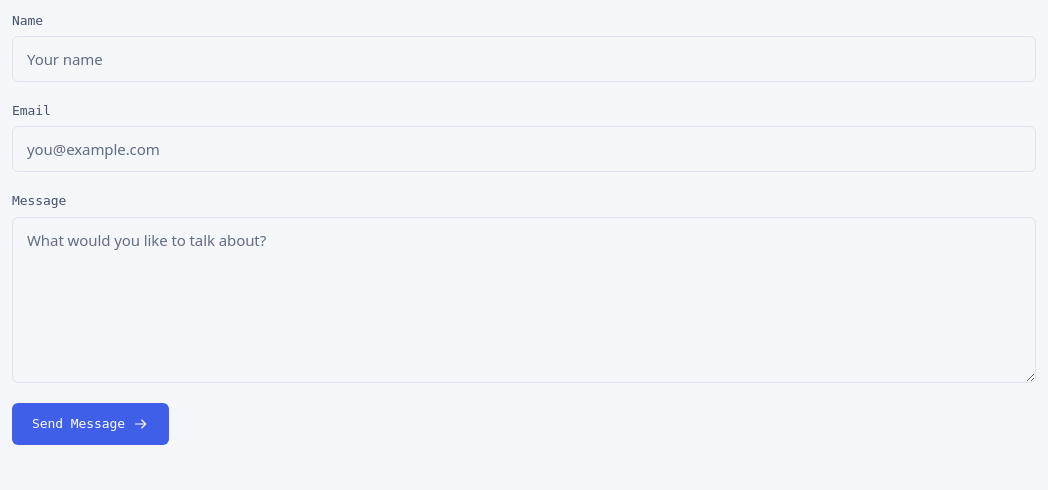
it: ContactForm › shows the real failure when the server answers with an error status
In the field labelled "Name": (524, 59) [12,36,1036,82], type "Ada Lovelace"
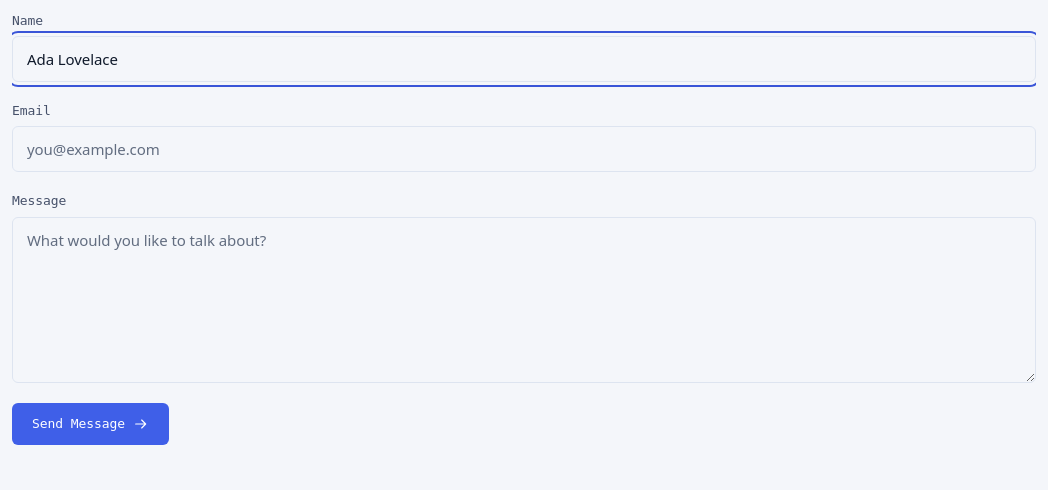
In the field labelled "Email": (524, 149) [12,126,1036,172], type "ada@example.com"
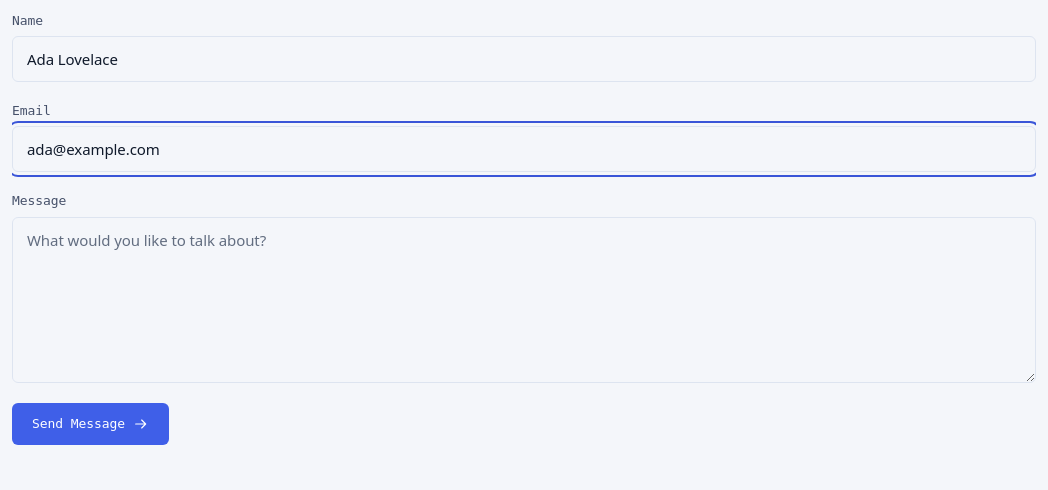
In the text box labelled "Message": (524, 300) [12,217,1036,383], type "Hello from the tests."
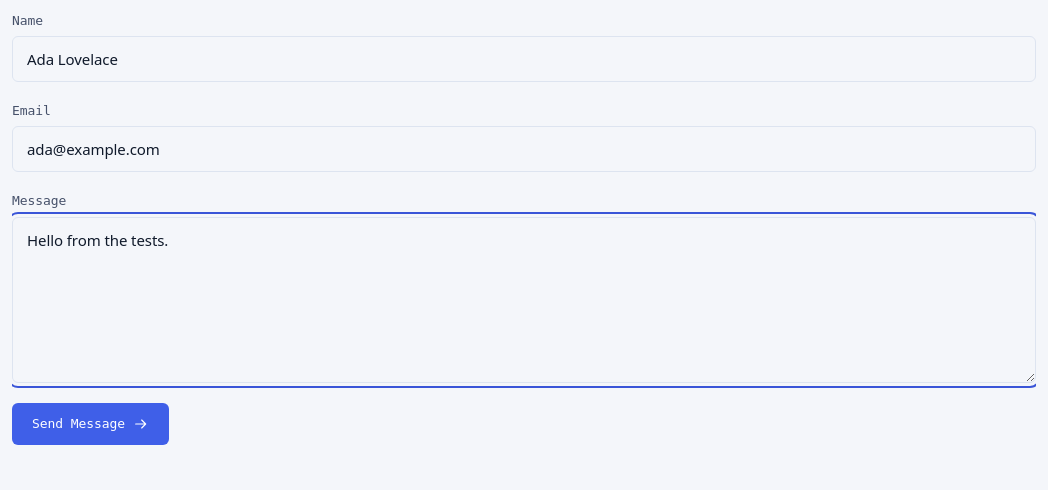
Click the button "Send Message": (90, 424) [12,403,169,445]
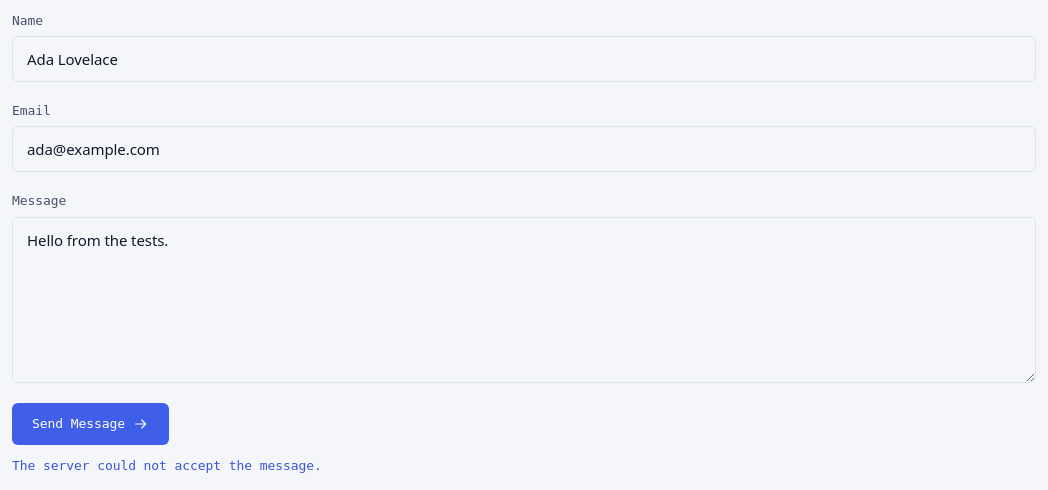
Result: the text "The server could not accept the message." is shown at [12,458,322,473]
